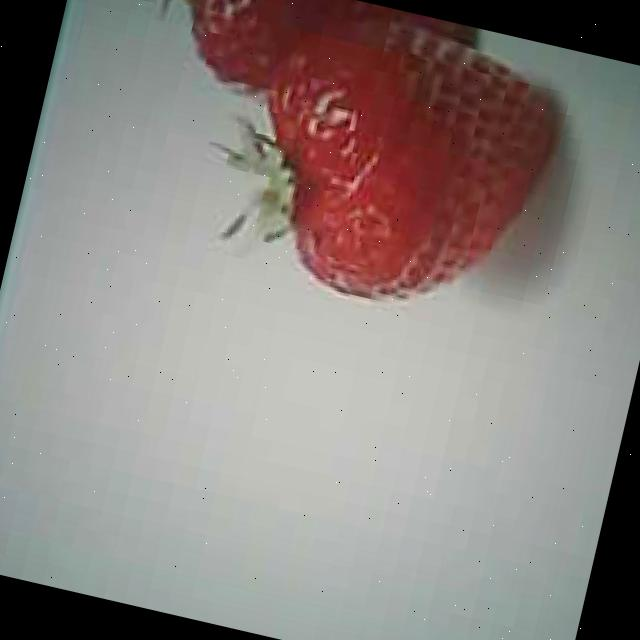strawberry: (231, 0, 570, 332)
